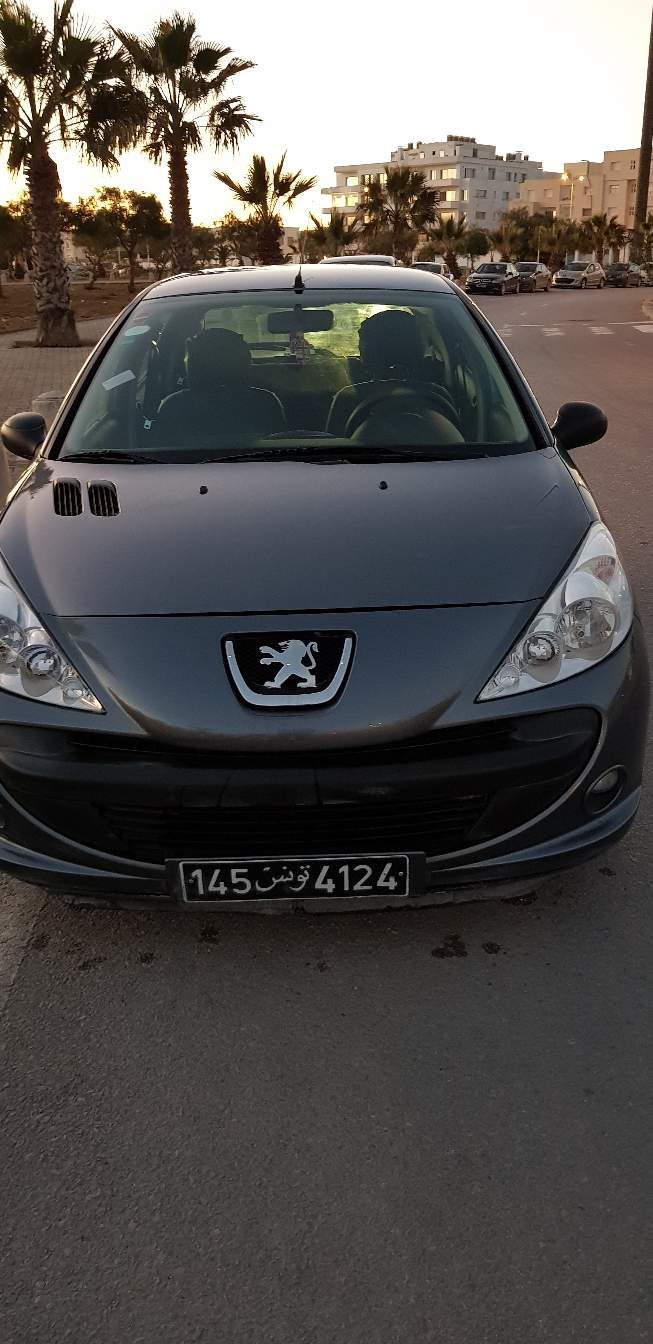LP: (178, 851, 415, 905)
